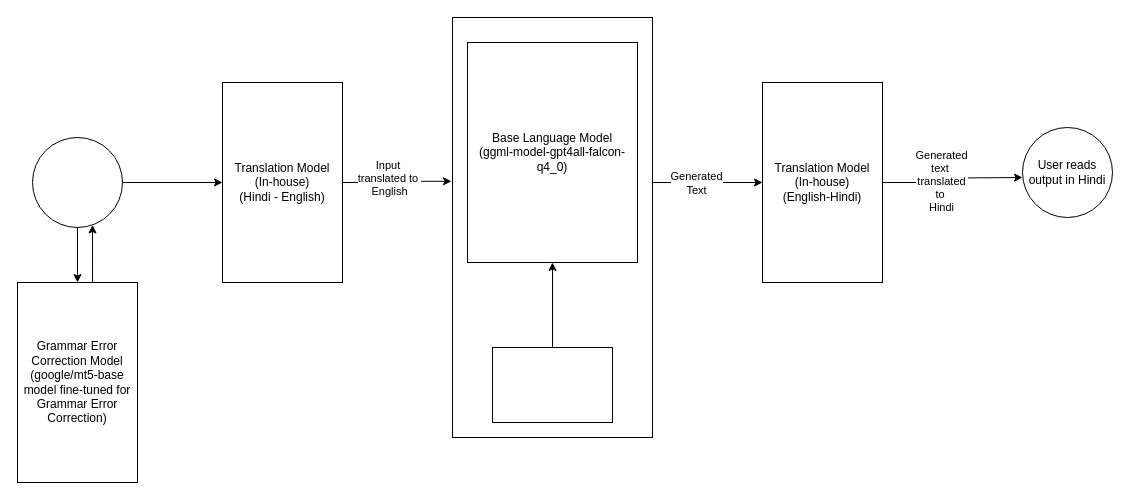
Some shapes in this 1130 by 500 pixel diagram are drawn without their labels. Here are the shapes that lost their labels. From the top down, the box of each, then its label:
(32, 136, 122, 228): User input in Hindi or English
(492, 346, 612, 422): Vector Store with domain specific information (If required) RAG
